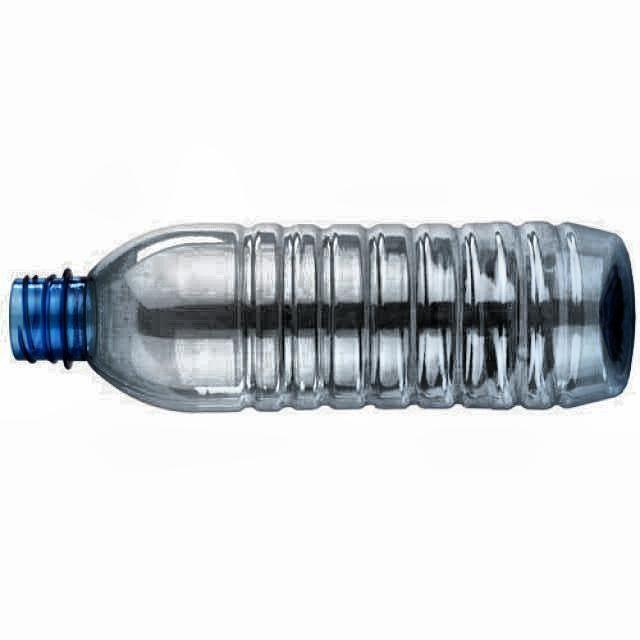plastic: (9, 222, 635, 411)
